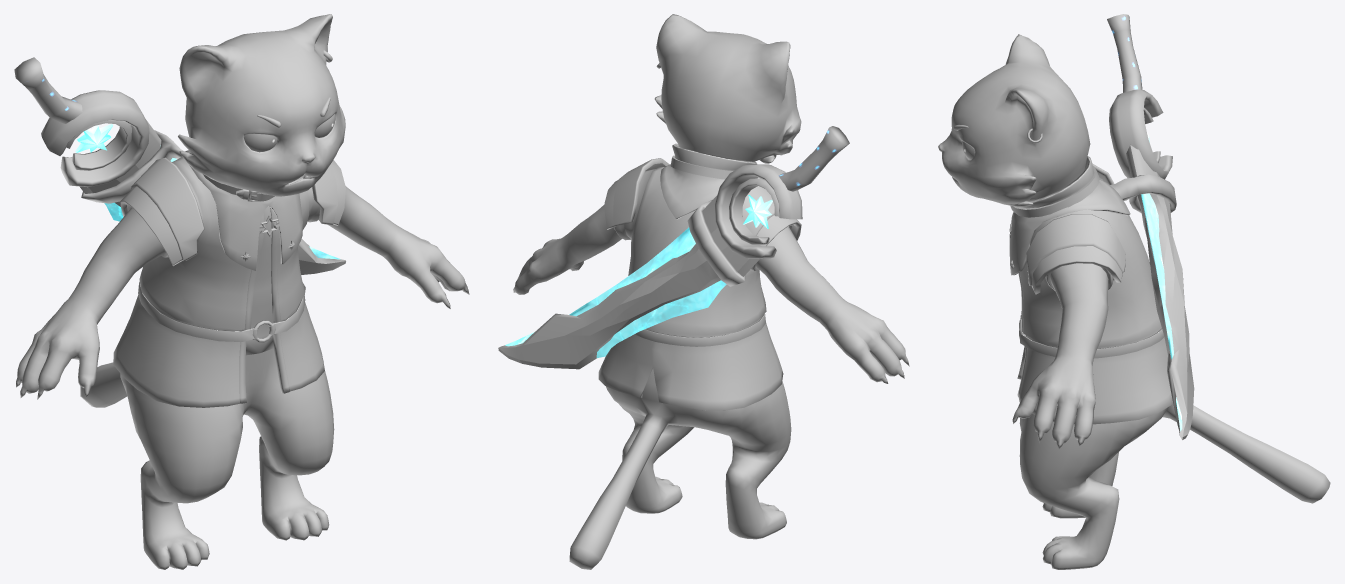
The model's file is Kaju.gltf.
The picture shows the model from 3 angles, left to right: view 1: azimuth 30°, elevation 25°; view 2: azimuth 150°, elevation 25°; view 3: azimuth 270°, elevation 25°; orthographic projection. The views are drawn at different scales.
Visible parts, largest first — view 1: cheekMain_GEO; view 2: cheekMain_GEO; view 3: cheekMain_GEO.
Part boxes in pixels (<box>): cheekMain_GEO: <box>14,14,469,569</box>; cheekMain_GEO: <box>498,14,909,569</box>; cheekMain_GEO: <box>938,14,1330,569</box>.
Size of the model in its own units: 0.8538 by 0.9857 by 0.742.
